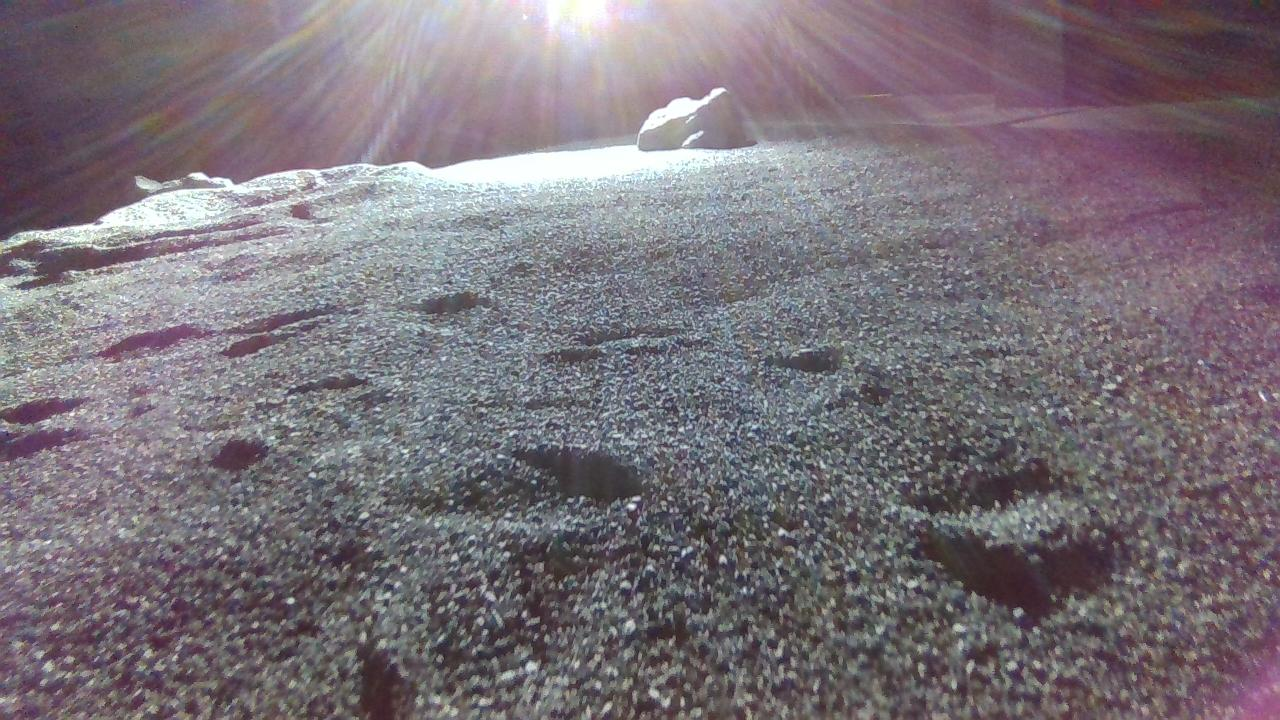rock: (638, 86, 757, 150)
